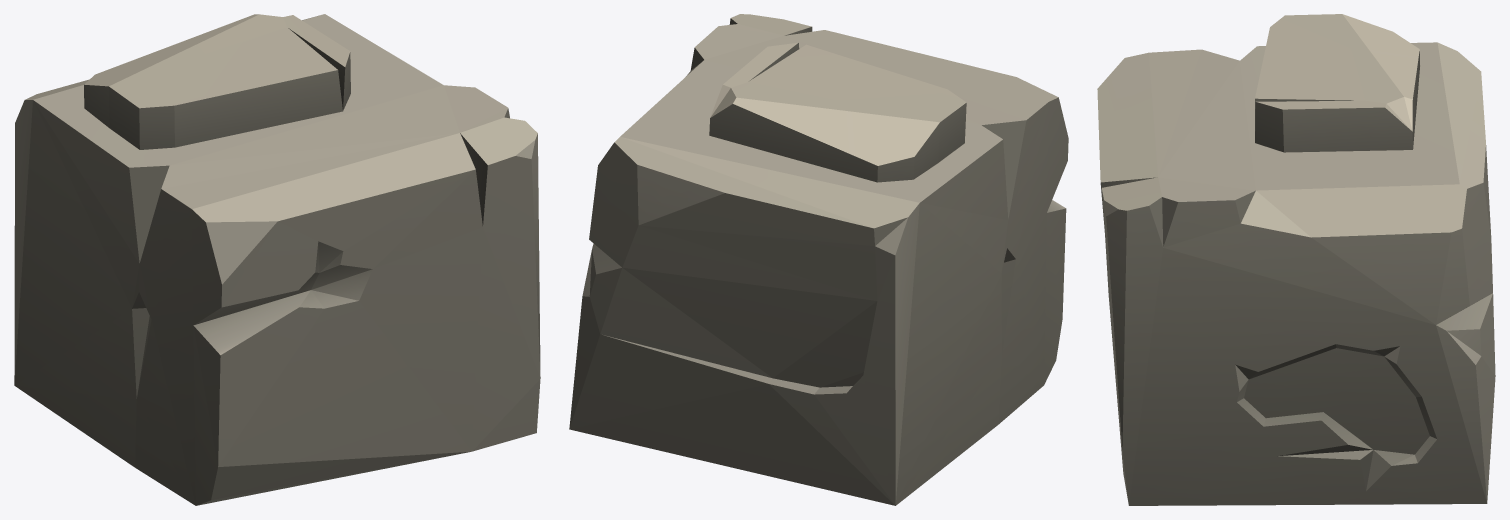
File: Rock_Medium_1A.fbx
The picture shows the model from 3 angles, left to right: view 1: azimuth 30°, elevation 25°; view 2: azimuth 150°, elevation 25°; view 3: azimuth 270°, elevation 25°; orthographic projection. The views are drawn at different scales.
Parts seen in each view (by area): view 1: Rock_Medium_1A; view 2: Rock_Medium_1A; view 3: Rock_Medium_1A.
Part boxes in pixels (x1,y1,x2,y2): Rock_Medium_1A: (14, 14, 540, 505); Rock_Medium_1A: (569, 14, 1068, 505); Rock_Medium_1A: (1097, 14, 1495, 505).
Size of the model in its own units: 2.01 by 1.95 by 2.04.
